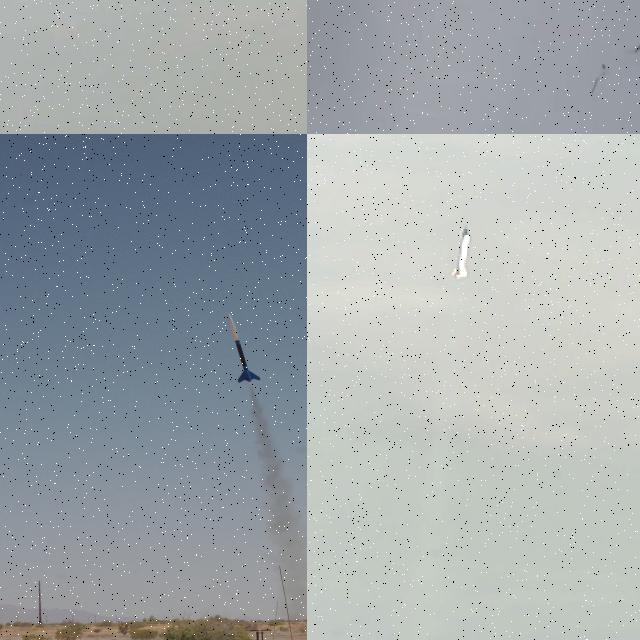Rocket: (228, 312, 261, 383), (450, 224, 472, 281), (634, 44, 640, 53)
